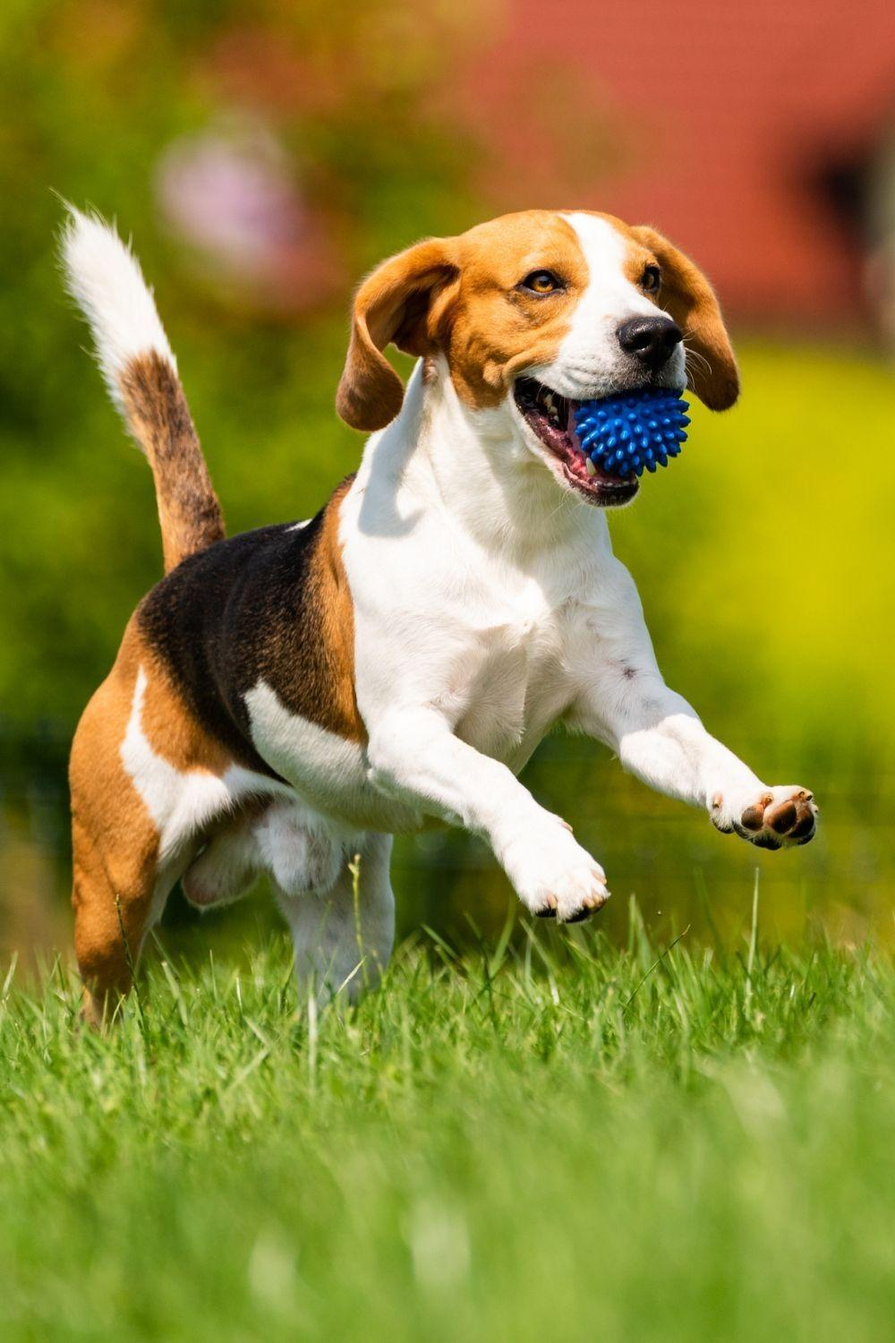adult_dog: (48, 193, 820, 1035)
